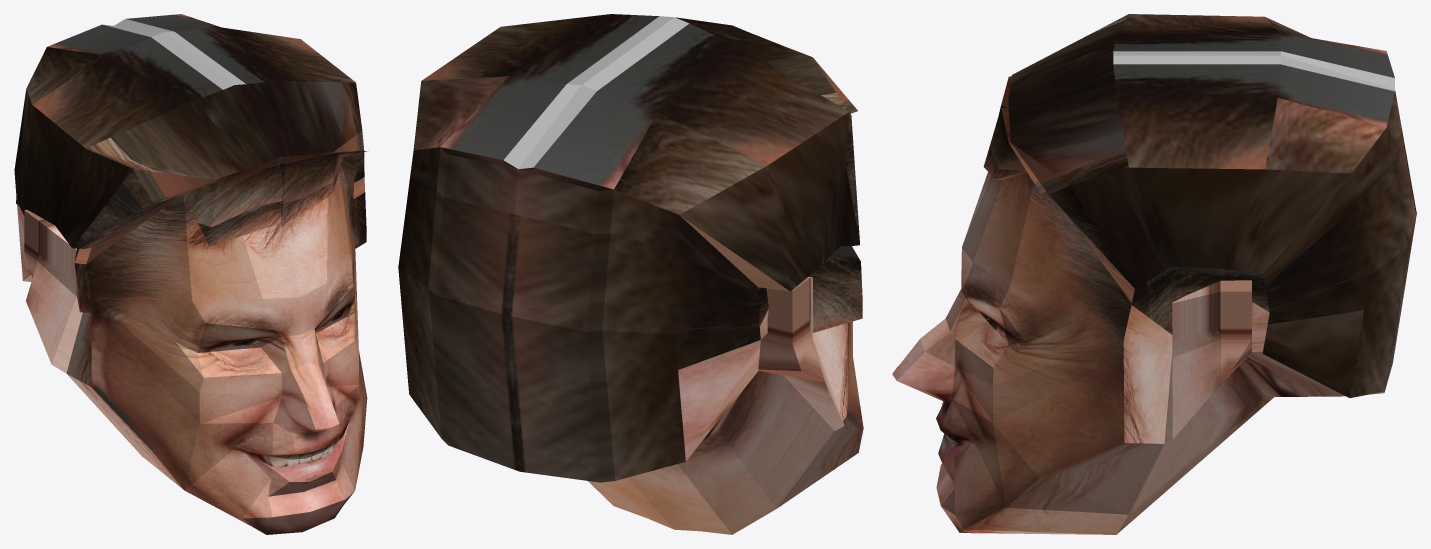
File: luis.glb
3 views of the same model, side by side, from view 1: azimuth 30°, elevation 25°; view 2: azimuth 150°, elevation 25°; view 3: azimuth 270°, elevation 25° (orthographic). The views are drawn at different scales.
Parts seen in each view (by area): view 1: Cube; view 2: Cube; view 3: Cube.
Part boxes in pixels (x1=…): Cube: x1=14, y1=14, x2=368, y2=534; Cube: x1=398, y1=14, x2=863, y2=534; Cube: x1=892, y1=14, x2=1416, y2=534.
Size of the model in its own units: 1.67 by 2.03 by 2.09.
Materials: 1 (1 with a texture image).
